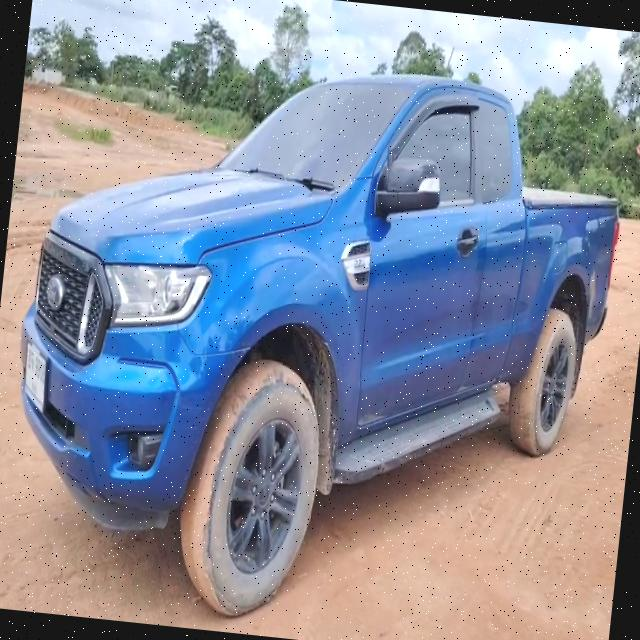Digit: (34, 354, 45, 383)
Licenseplate: (23, 339, 46, 417)
Provincename: (31, 379, 38, 396)
Thaichar: (26, 346, 34, 372)
